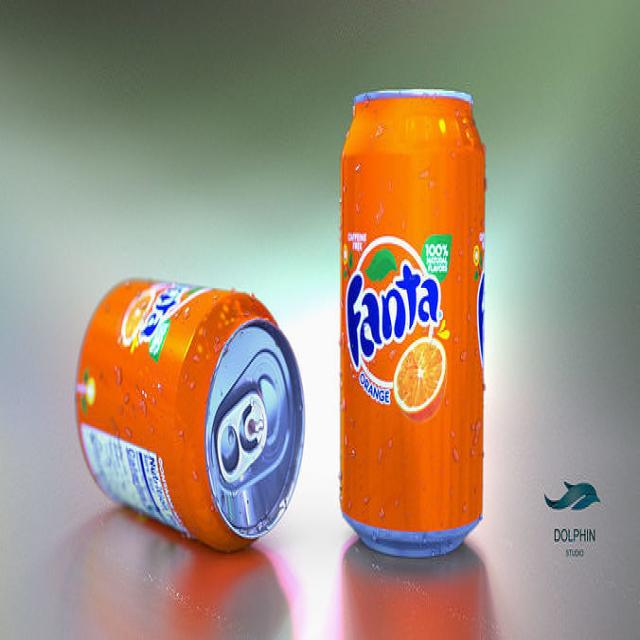fanta: (340, 75, 486, 573), (70, 261, 303, 550)
